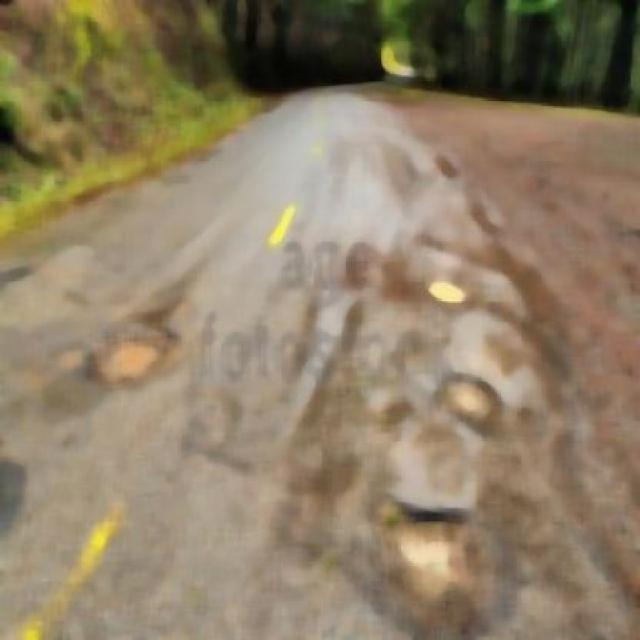pothole: (376, 492, 458, 598), (89, 312, 169, 411)
